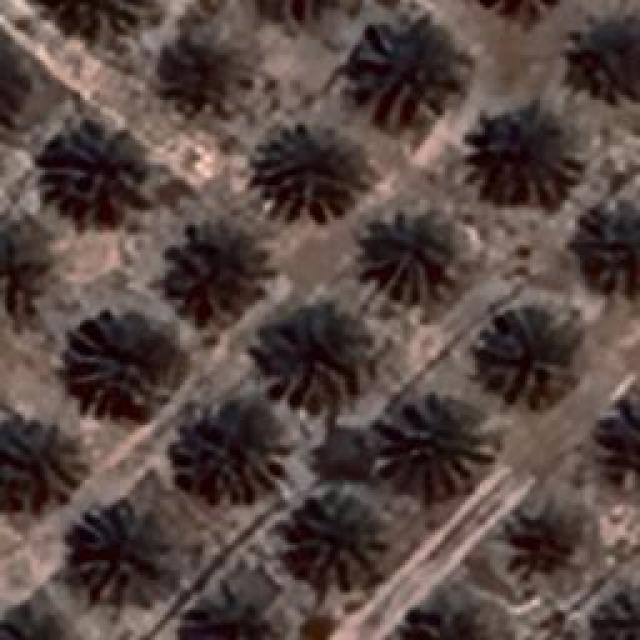PalmTree: (26, 18, 120, 275), (252, 300, 368, 410), (350, 20, 465, 130), (172, 400, 290, 500), (255, 123, 375, 220), (370, 398, 492, 490), (68, 321, 188, 414), (459, 101, 569, 199), (352, 202, 452, 308), (48, 120, 150, 222), (474, 305, 578, 405), (68, 500, 162, 602), (290, 484, 388, 578), (0, 425, 88, 515), (174, 225, 264, 313), (154, 36, 254, 106), (575, 192, 640, 296), (562, 25, 640, 103), (595, 392, 640, 494), (382, 603, 502, 640), (170, 603, 290, 640), (516, 508, 574, 568), (0, 36, 30, 129), (0, 606, 78, 640), (250, 0, 354, 25), (597, 584, 640, 640), (465, 0, 569, 20)
